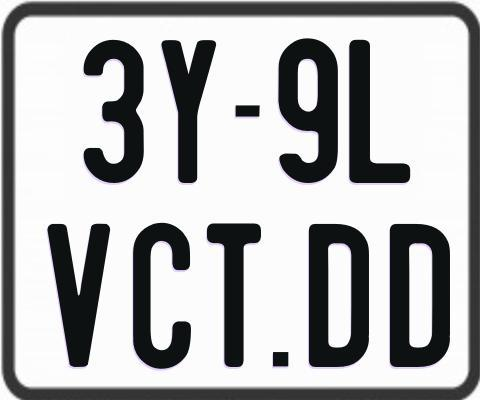3: (82, 40, 147, 186)
9: (275, 38, 341, 183)
C: (130, 222, 188, 370)
D: (307, 221, 369, 367), (388, 222, 450, 366)
L: (349, 38, 410, 183)
T: (204, 224, 260, 370)
V: (47, 224, 114, 367)
Y: (159, 38, 216, 181)
